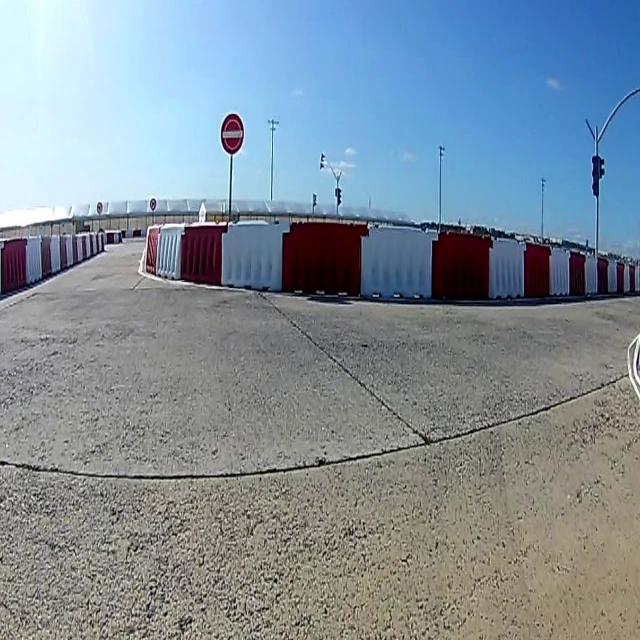girisyok: (222, 118, 242, 153)
